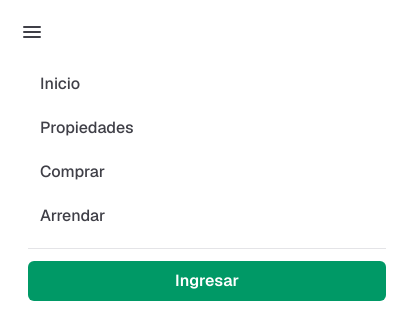
Test: MobileNavigation › abre y cierra el menú con el botón
The image size is (402, 318).
Click the button named "Abrir menú" at (32, 32), box left=12, top=12, right=52, bottom=52
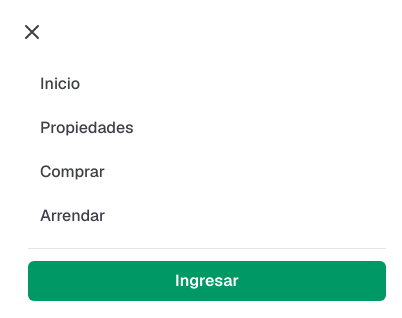
expect the button named "Cerrar menú" is expanded: met
Click the button named "Cerrar menú" at (32, 32), box left=12, top=12, right=52, bottom=52
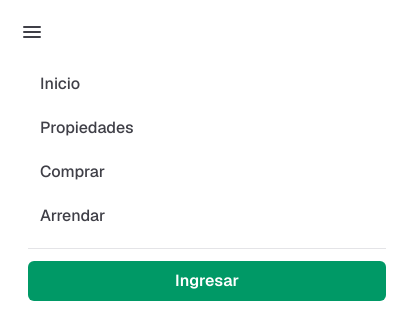
expect the button named "Abrir menú" is collapsed: met, box left=12, top=12, right=52, bottom=52
